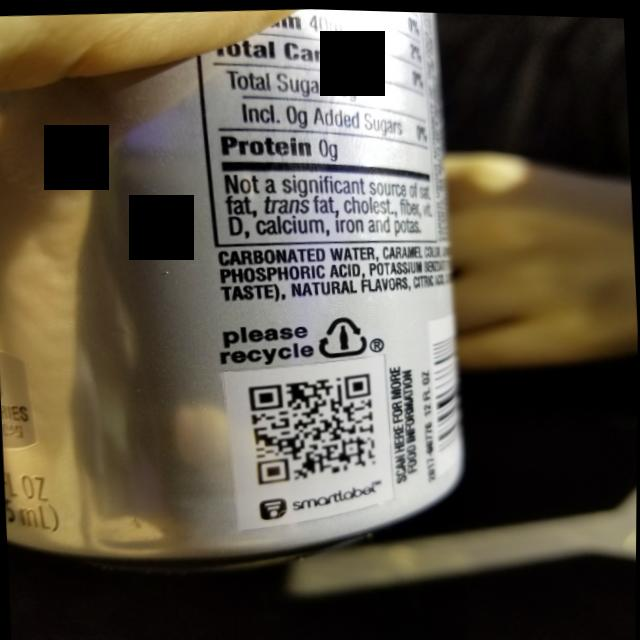QR_CODE: (238, 356, 393, 492)
